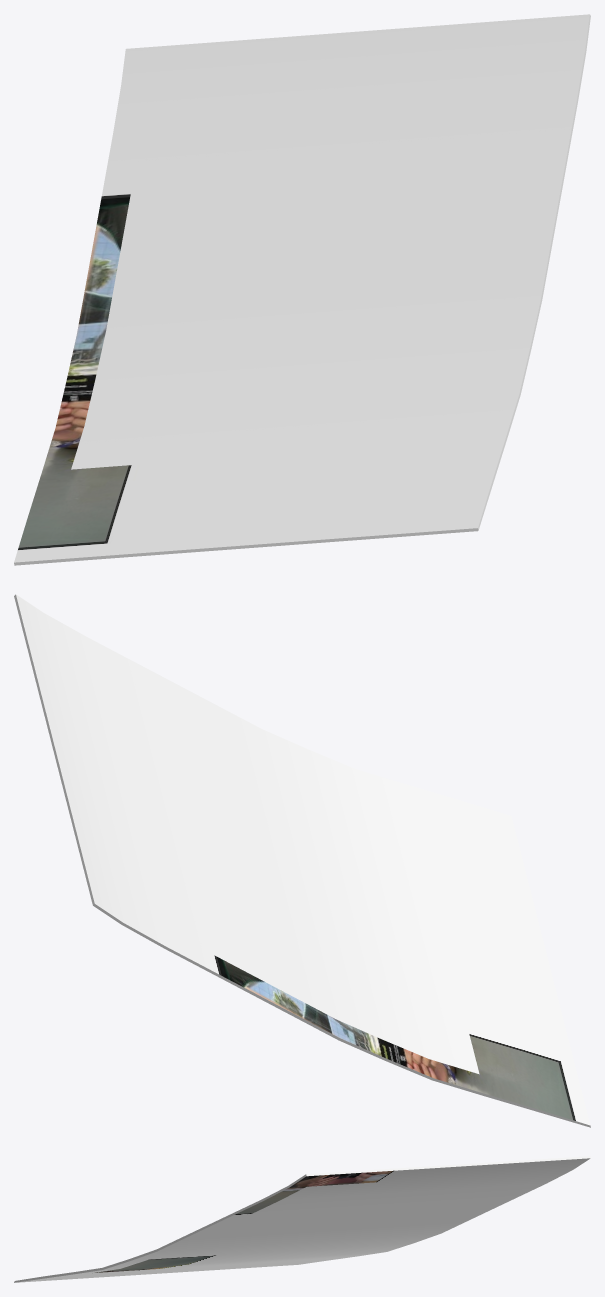
The model's file is polaroid_3d.glb.
The picture shows the model from 3 angles, top to bottom: view 1: azimuth 30°, elevation 25°; view 2: azimuth 150°, elevation 25°; view 3: azimuth 270°, elevation 25°; orthographic projection. The views are drawn at different scales.
Visible parts, largest first — view 1: Object_3, Object_5; view 2: Object_3, Object_5; view 3: Object_4, Object_5.
Part boxes in pixels (<box>): Object_3: <box>71,53,555,469</box>; Object_5: <box>14,14,590,565</box>; Object_3: <box>49,632,479,1074</box>; Object_5: <box>14,594,590,1127</box>; Object_4: <box>95,1171,554,1272</box>; Object_5: <box>14,1156,590,1282</box>.
Size of the model in its own units: 27.2 by 18.12 by 31.5.
3 materials, 3 textured.
